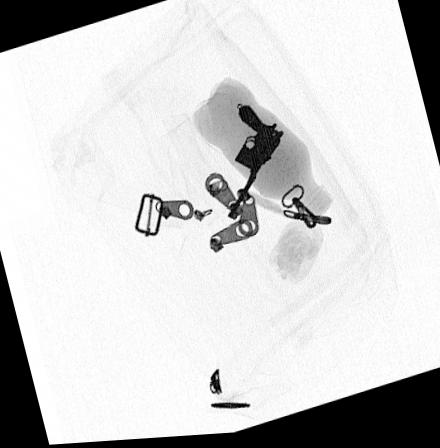Gun: (226, 106, 284, 224)
